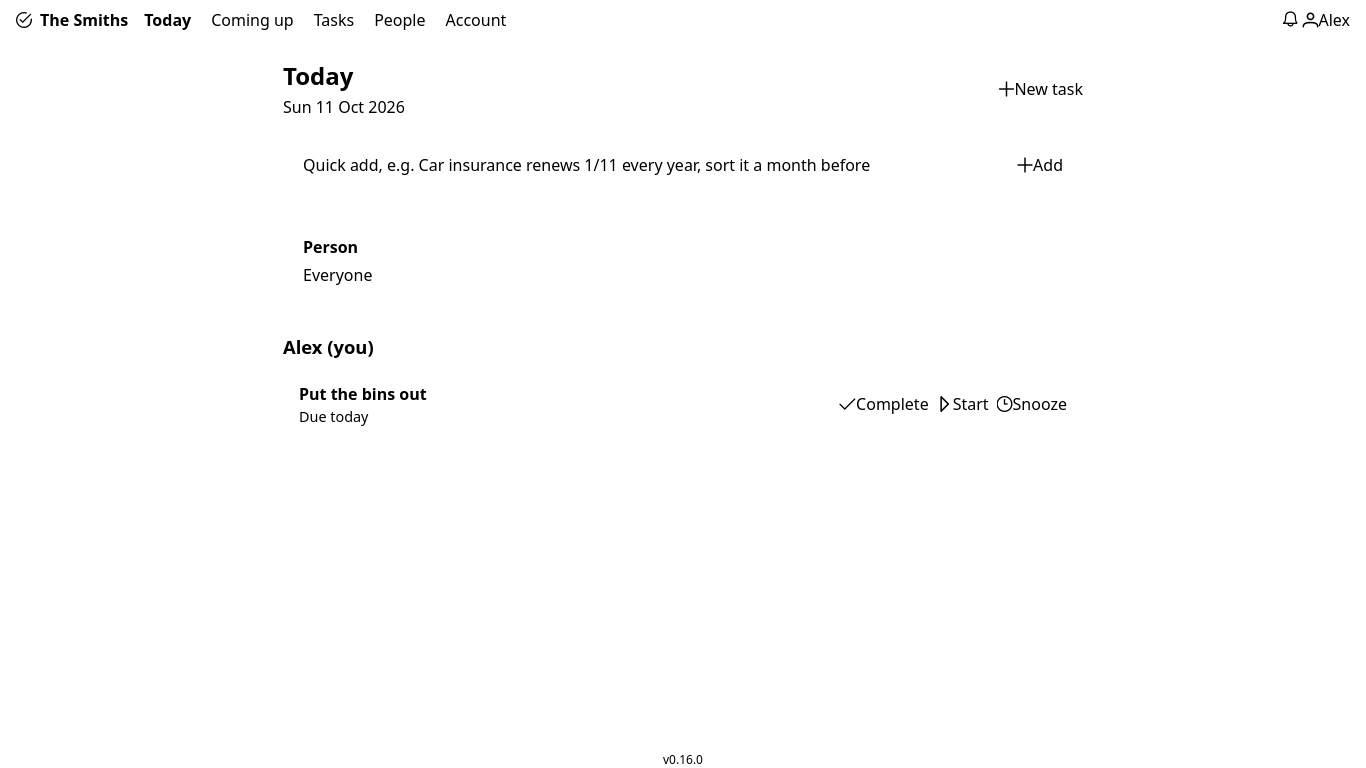
Scenario: Today › starts an item
This screenshot has width=1366, height=768.
Click the button "Start": [963, 404] box left=937, top=393, right=989, bottom=415
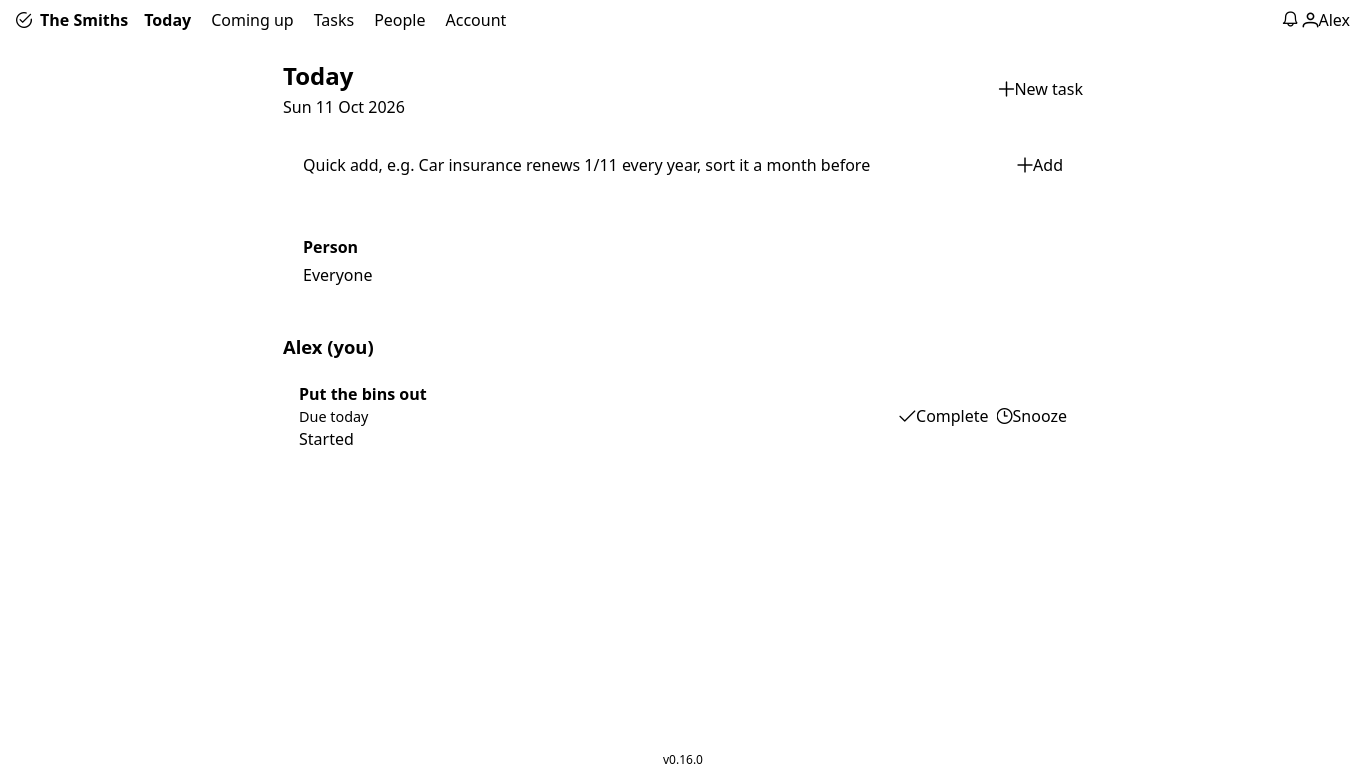
Expected: the list item "Put the bins out Due today Started Complete Snooze" is shown, left=283, top=371, right=1083, bottom=462
